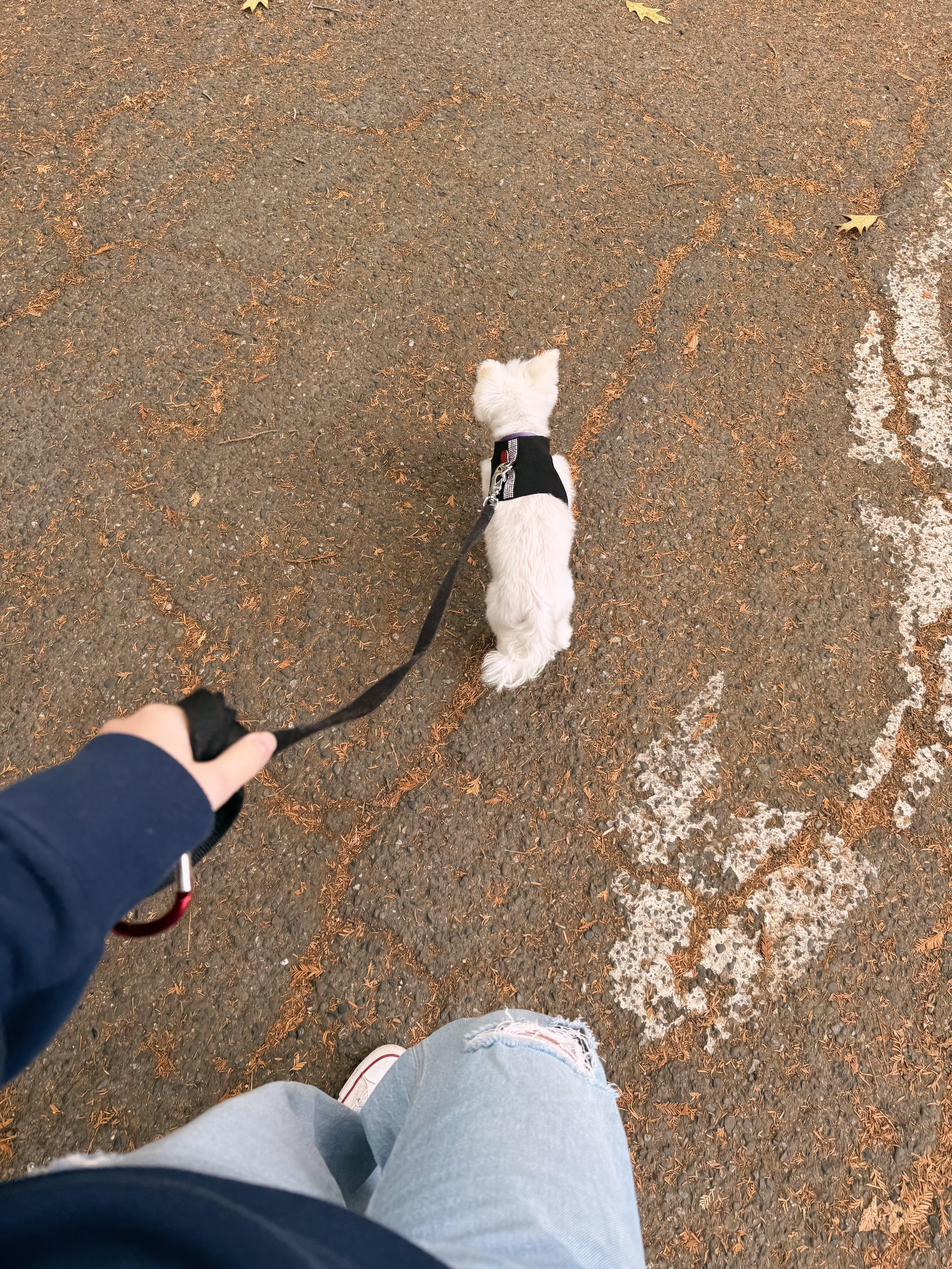non-dog: (0, 702, 647, 1269)
puppy-dog: (470, 346, 578, 696)
